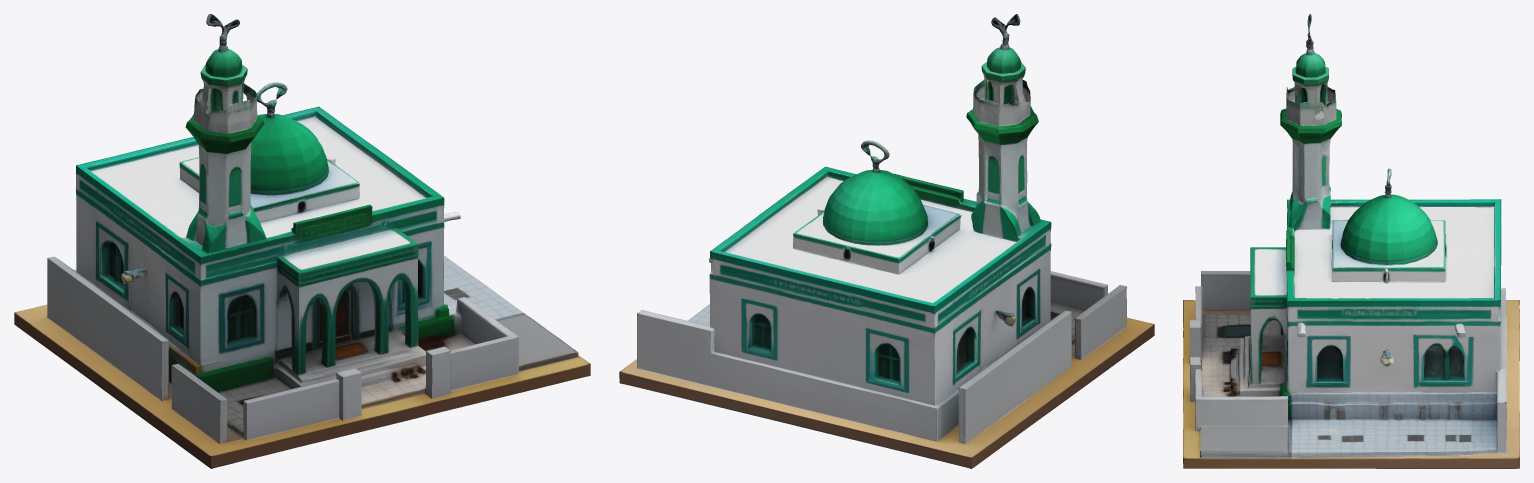
The model's file is masjid.glb.
The picture shows the model from 3 angles, left to right: view 1: azimuth 30°, elevation 25°; view 2: azimuth 150°, elevation 25°; view 3: azimuth 270°, elevation 25°; orthographic projection. The views are drawn at different scales.
Parts seen in each view (by area): view 1: world; view 2: world; view 3: world.
Part boxes in pixels (box(x1,y1,x2,y2)): world: box(14, 14, 590, 468); world: box(619, 14, 1154, 468); world: box(1183, 14, 1519, 468).
Bounding box in the file's own units: 1 × 0.9635 × 0.8987.
1 material, 1 textured.
